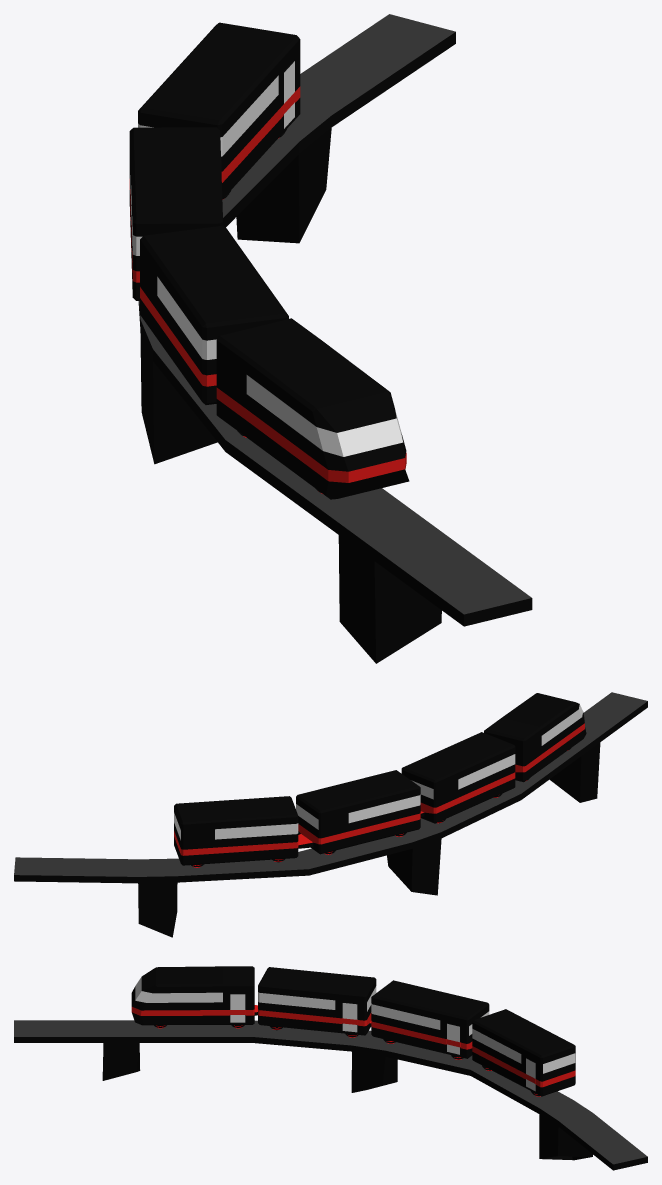
File: 3 December2020 - Day 7- Train Set.fbx
3 renders of one model, top to bottom at view 1: azimuth 30°, elevation 25°; view 2: azimuth 150°, elevation 25°; view 3: azimuth 270°, elevation 25°, orthographic. The views are drawn at different scales.
Visible parts, largest first — view 1: Cube.004, Cube, Cube.003, Cube.001, Cube.002; view 2: Cube.004, Cube.003, Cube.002, Cube.001, Cube; view 3: Cube.004, Cube, Cube.001, Cube.002, Cube.003.
Boxes of the visible parts, x1,y1,x2,y2 form: Cube.004: (138,14,532,663); Cube: (216,318,409,499); Cube.003: (138,22,300,199); Cube.001: (140,225,288,404); Cube.002: (129,127,222,300); Cube.004: (14,692,647,937); Cube.003: (174,796,298,865); Cube.002: (296,770,420,854); Cube.001: (401,732,515,823); Cube: (484,693,586,782); Cube.004: (14,1020,647,1170); Cube: (131,966,257,1025); Cube.001: (258,967,376,1035); Cube.002: (371,980,489,1058); Cube.003: (472,1009,575,1096).
Bounding box in the file's own units: 1761 × 627 × 3224.
